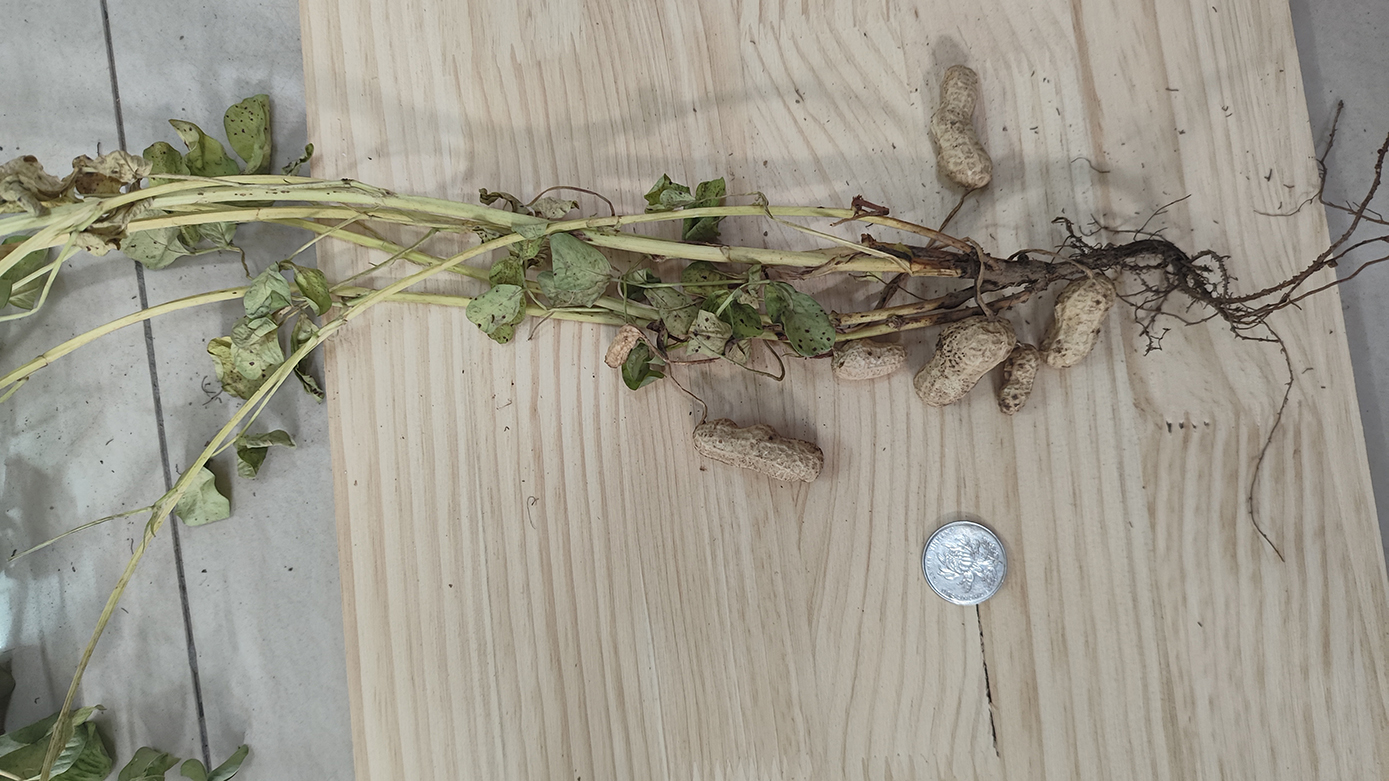h: (914, 313, 1014, 406), (694, 419, 823, 484), (930, 65, 993, 192), (1040, 277, 1114, 369), (832, 337, 907, 381), (998, 343, 1038, 413)
l: (605, 323, 640, 368)
